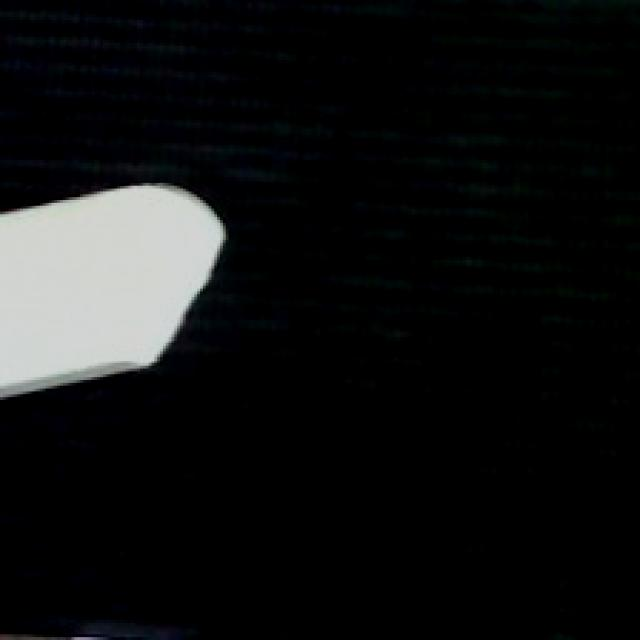defected: (3, 171, 231, 403)
